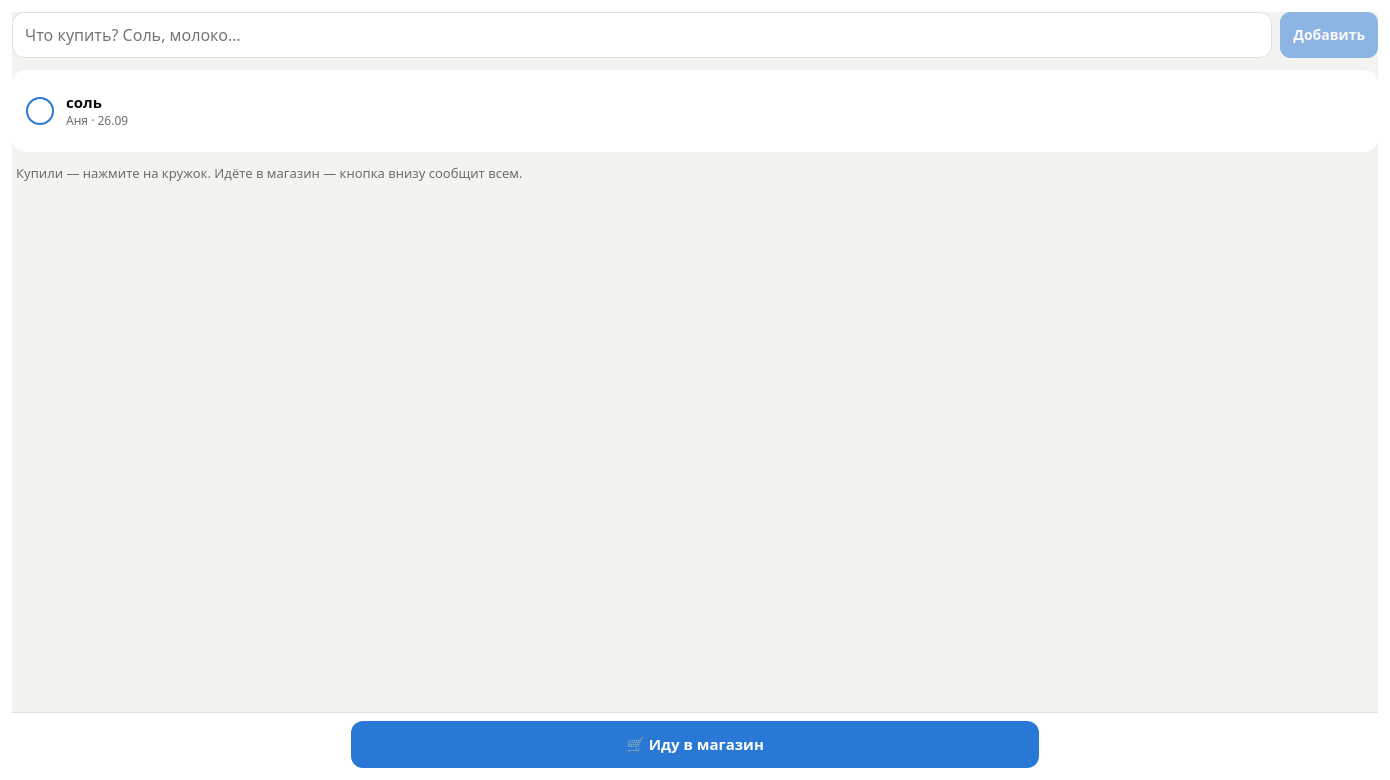
it: shopping, money and votes › adds to the shopping list and tells everybody about the trip
Type "молоко, хлеб" into the field named "Что купить? Можно через запятую" at (642, 35), box [12,12,1272,58]
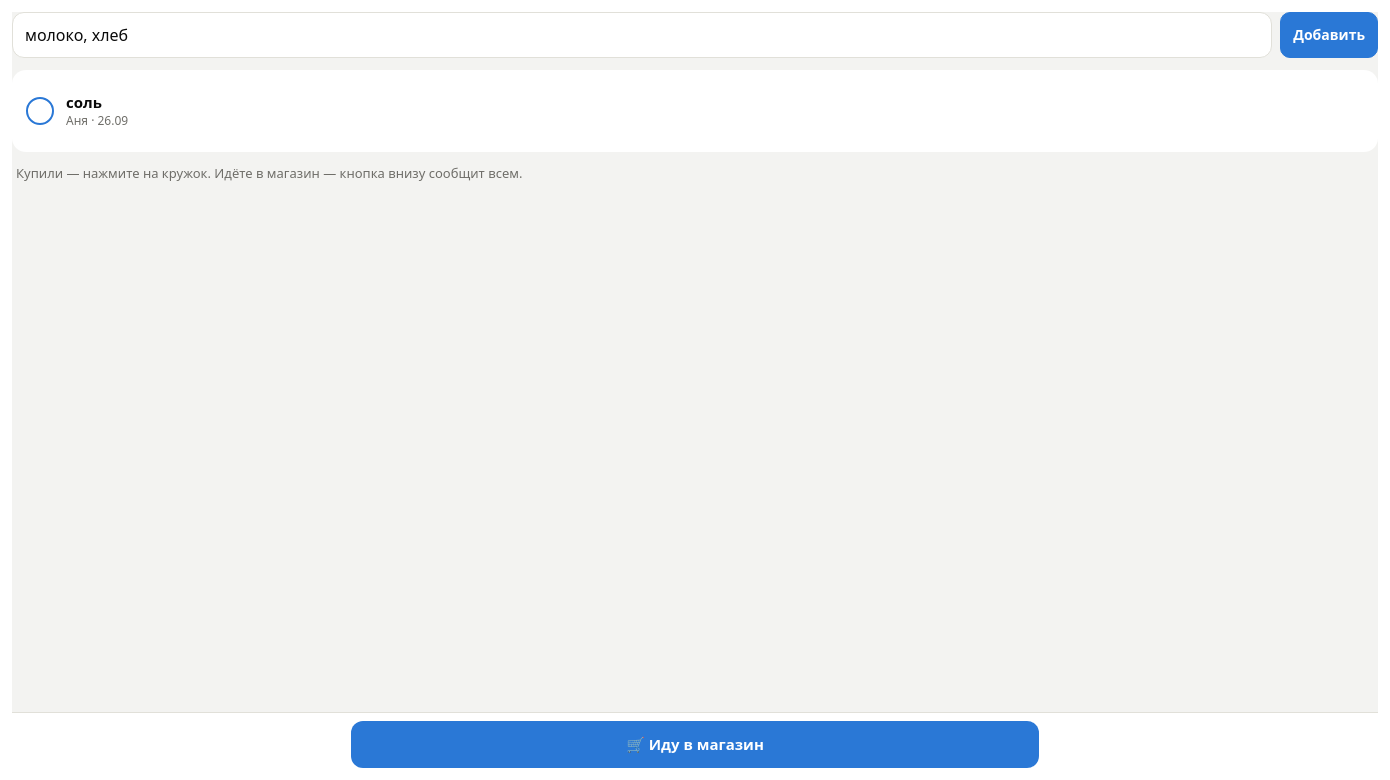
Click the button "Добавить" at (1329, 35), box [1280,12,1378,58]
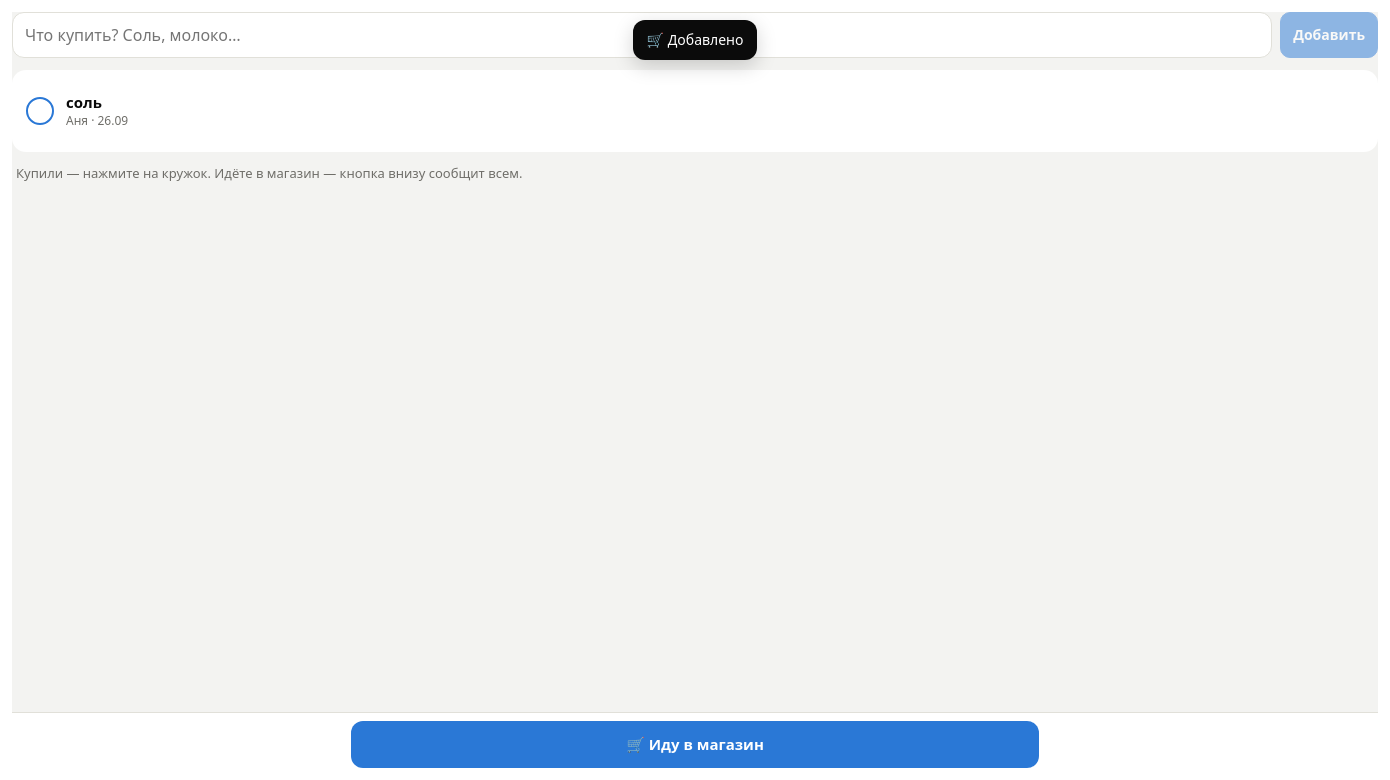
Expected: the button "🛒 Добавлено" is shown, [632,20,757,60]
Expected: the field named "Что купить? Можно через запятую" is empty, [12,12,1272,58]
Click the button named "Купили: соль" at (40, 111), box [26,97,54,125]
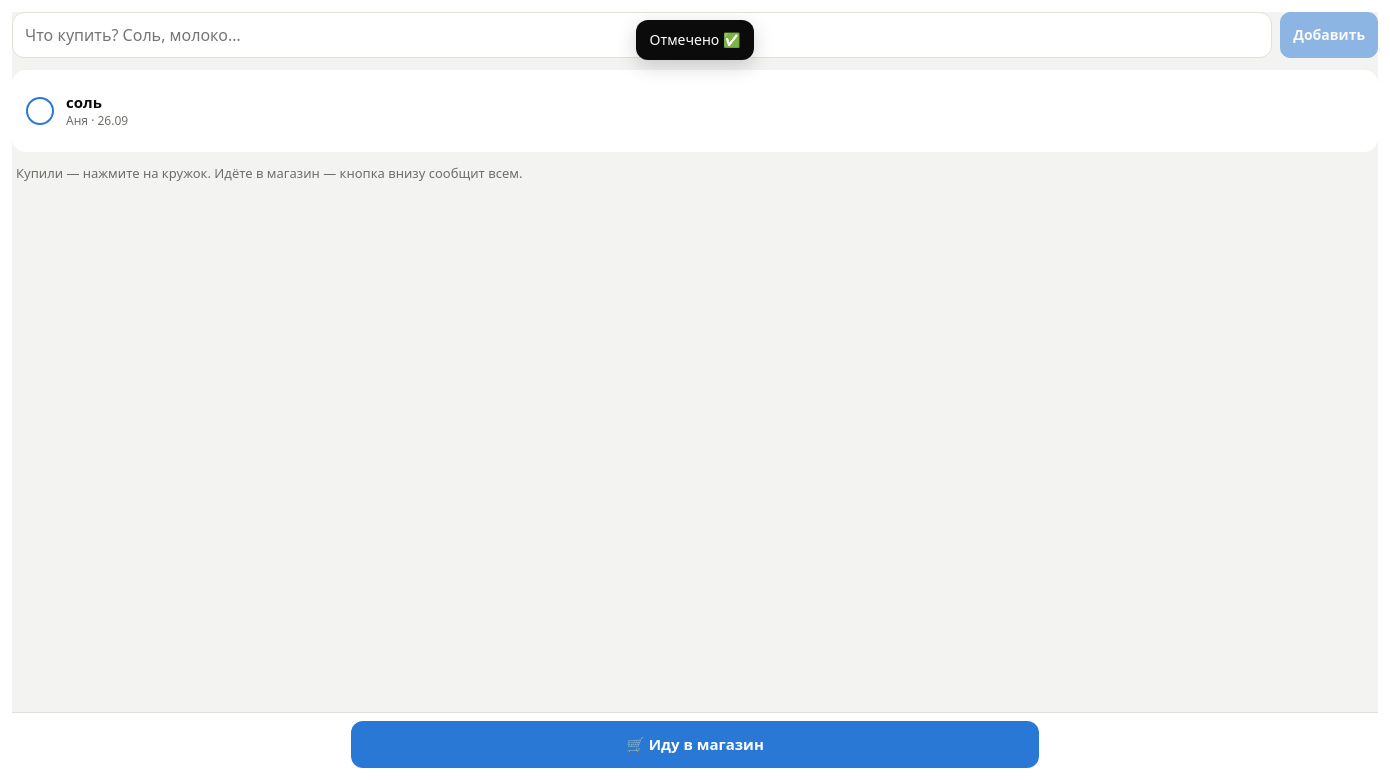
Expected: the button "Отмечено ✅" is shown, [636,20,754,60]
Click the button "🛒 Иду в магазин" at (695, 744), box [351,721,1039,768]
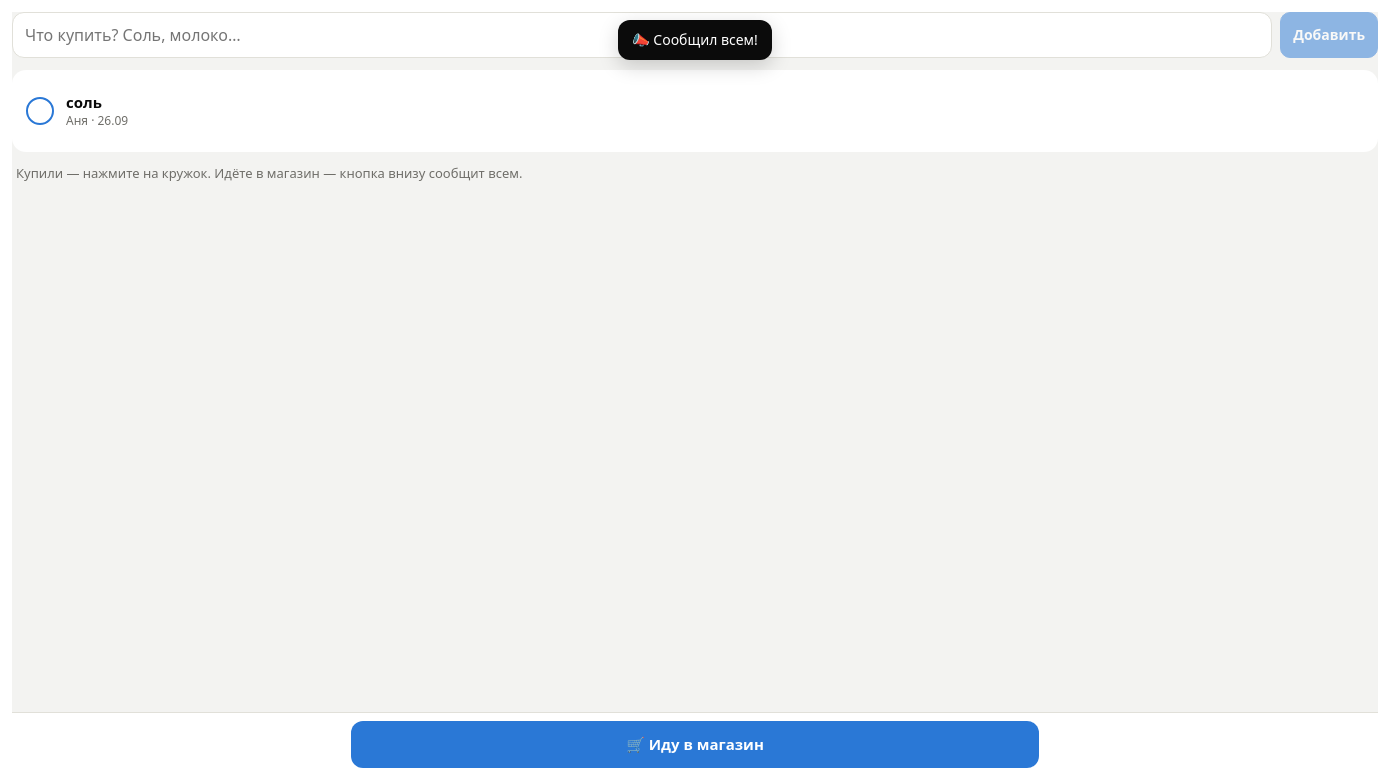
Expected: the button "📣 Сообщил всем!" is shown, [618,20,772,60]
